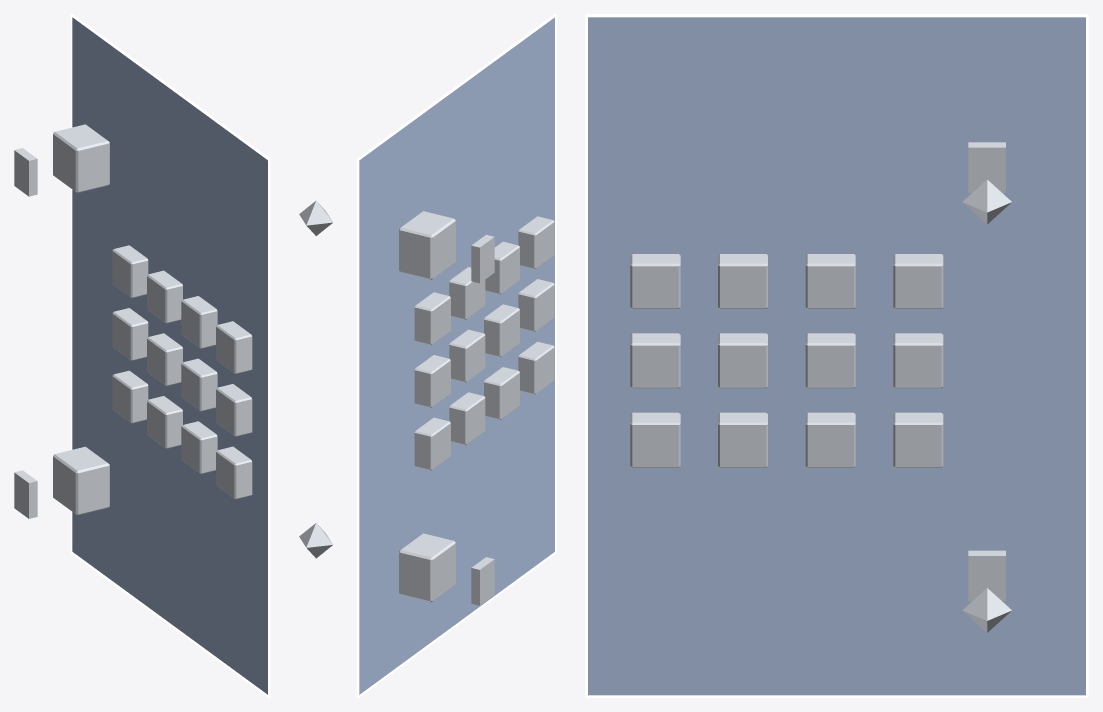
The model's file is slab.glb.
The picture shows the model from 3 angles, left to right: view 1: azimuth 30°, elevation 25°; view 2: azimuth 150°, elevation 25°; view 3: azimuth 270°, elevation 25°; orthographic projection. The views are drawn at different scales.
Parts seen in each view (by area): view 1: slab_glass, slab_frame, slot_attn_A, slot_attn_B, slot_expert_10, slot_expert_11, slot_expert_09, slot_expert_00, slot_expert_07, slot_expert_06, slot_expert_08, slot_expert_01 (+6 smaller); view 2: slab_glass, slab_frame, slot_attn_A, slot_attn_B, slot_expert_00, slot_expert_01, slot_expert_02, slot_expert_03, slot_expert_11, slot_expert_04, slot_expert_09, slot_expert_10 (+8 smaller); view 3: slab_glass, slab_frame, slot_expert_00, slot_expert_03, slot_expert_09, slot_expert_04, slot_expert_01, slot_expert_10, slot_expert_02, slot_expert_11, slot_expert_05, slot_expert_07 (+6 smaller).
Part boxes in pixels (box(x1,y1,x2,y2)): slab_glass: box(72, 17, 267, 694); slab_frame: box(70, 14, 270, 697); slot_attn_A: box(53, 446, 109, 515); slot_attn_B: box(53, 124, 109, 192); slot_expert_10: box(216, 384, 252, 436); slot_expert_11: box(216, 321, 252, 373); slot_expert_09: box(216, 446, 252, 499); slot_expert_00: box(112, 370, 148, 423); slot_expert_07: box(181, 358, 217, 411); slot_expert_06: box(181, 421, 217, 473); slot_expert_08: box(181, 296, 217, 348); slot_expert_01: box(112, 308, 148, 360); slab_glass: box(359, 17, 554, 694); slab_frame: box(356, 14, 556, 697); slot_attn_A: box(399, 533, 455, 602); slot_attn_B: box(399, 211, 455, 279); slot_expert_00: box(414, 417, 450, 470); slot_expert_01: box(414, 355, 450, 407); slot_expert_02: box(414, 292, 450, 345); slot_expert_03: box(449, 392, 485, 445); slot_expert_11: box(518, 216, 554, 269); slot_expert_04: box(449, 329, 485, 382); slot_expert_09: box(518, 341, 554, 394); slot_expert_10: box(518, 279, 554, 331); slab_glass: box(588, 17, 1085, 695); slab_frame: box(585, 14, 1088, 697); slot_expert_00: box(893, 412, 943, 467); slot_expert_03: box(805, 412, 855, 467); slot_expert_09: box(630, 412, 680, 467); slot_expert_04: box(805, 333, 855, 388); slot_expert_01: box(893, 333, 943, 388); slot_expert_10: box(630, 333, 680, 388); slot_expert_02: box(893, 254, 943, 308); slot_expert_11: box(630, 254, 680, 308); slot_expert_05: box(805, 254, 855, 308); slot_expert_07: box(718, 333, 767, 388).
Size of the model in its own units: 2.2 by 6.02 by 4.02.
